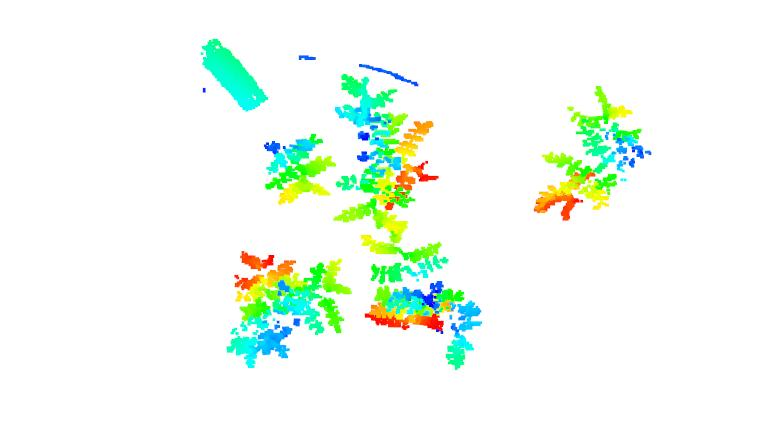chickpea: (535, 87, 654, 224), (363, 285, 483, 369), (329, 162, 445, 243), (331, 75, 437, 163), (223, 250, 297, 363), (364, 212, 469, 283), (264, 134, 337, 204), (293, 260, 351, 335)
